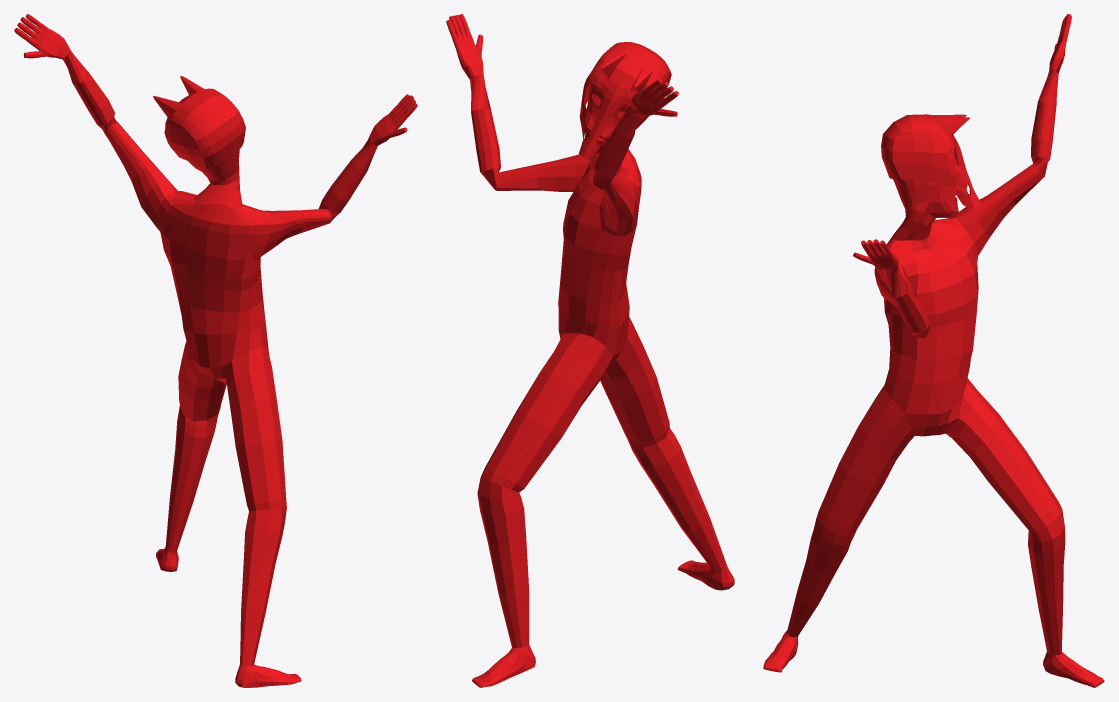
File: activaAlarma_000210.obj
The picture shows the model from 3 angles, left to right: view 1: azimuth 30°, elevation 25°; view 2: azimuth 150°, elevation 25°; view 3: azimuth 270°, elevation 25°; orthographic projection. The views are drawn at different scales.
Parts seen in each view (by area): view 1: Plane.002_Plane.001; view 2: Plane.002_Plane.001; view 3: Plane.002_Plane.001.
Part boxes in pixels (<box>): Plane.002_Plane.001: <box>14,14,417,687</box>; Plane.002_Plane.001: <box>446,14,734,687</box>; Plane.002_Plane.001: <box>763,14,1104,687</box>.
Size of the model in its own units: 3.98 by 7.36 by 3.8.
